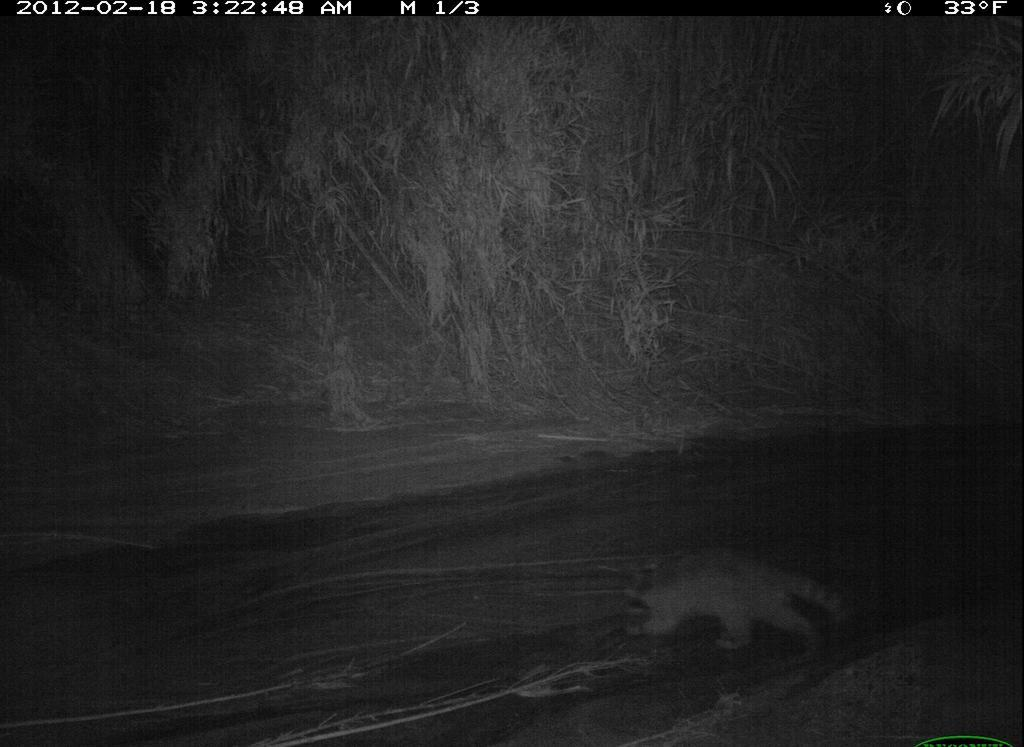raccoon: (612, 539, 881, 670)
